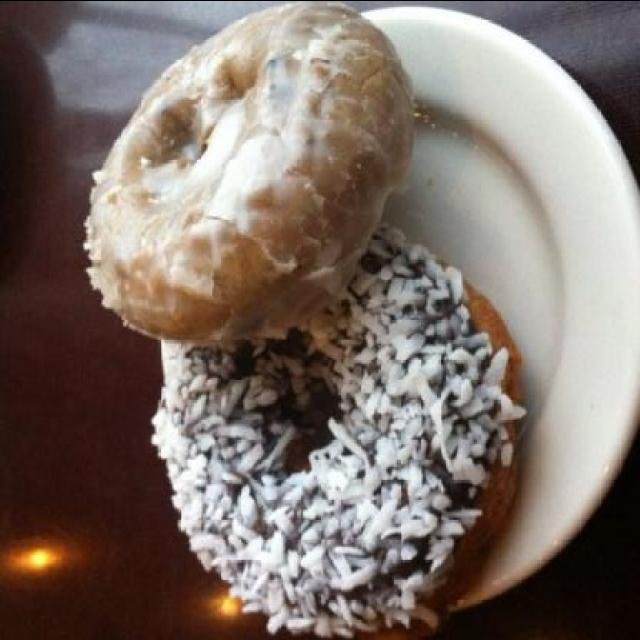Donuts: (76, 0, 568, 618)
